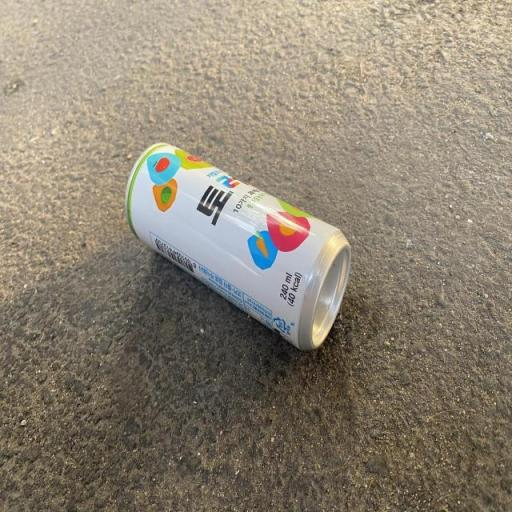metal: (114, 129, 359, 365)
